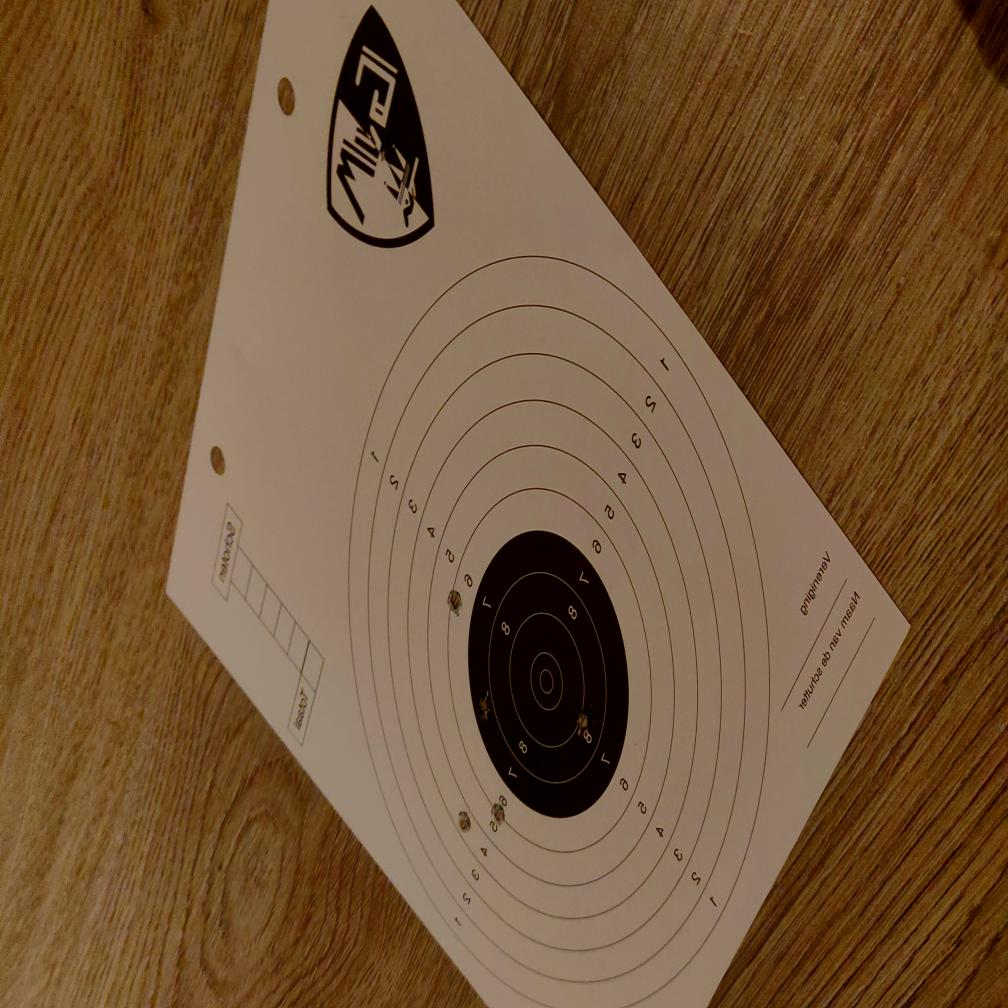4: (458, 809, 471, 835)
6: (446, 589, 463, 618), (490, 802, 506, 829)
7: (476, 687, 494, 726)
9: (575, 702, 597, 739)
Target: (346, 248, 772, 1008)
black_contour: (469, 530, 629, 815)
